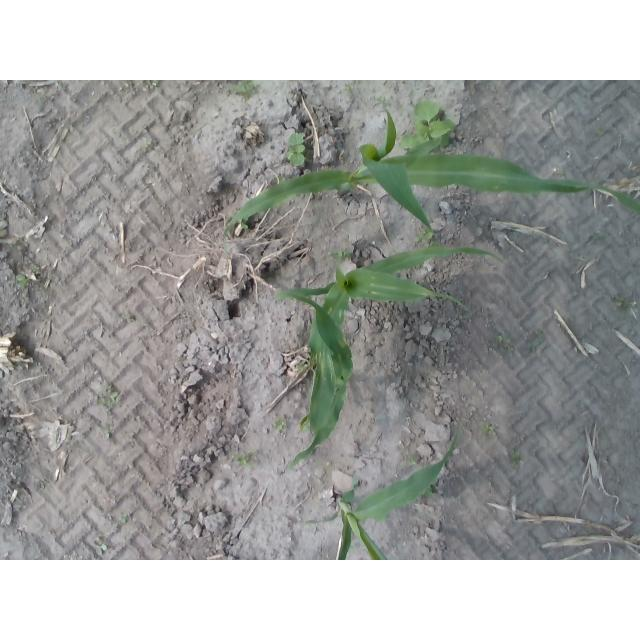Maize: (221, 107, 640, 252), (273, 244, 508, 429), (306, 424, 462, 560), (276, 291, 352, 470)
Weeds: (397, 101, 455, 156), (286, 132, 306, 166), (492, 331, 516, 354), (230, 80, 254, 100), (613, 295, 636, 314), (95, 387, 119, 405), (527, 330, 544, 354), (226, 211, 248, 229), (235, 451, 258, 468), (330, 248, 353, 263), (417, 226, 436, 243), (479, 423, 497, 438), (297, 415, 311, 433), (511, 449, 522, 470), (94, 538, 107, 555), (419, 486, 437, 498), (15, 274, 31, 287), (275, 418, 286, 431), (345, 84, 356, 97), (271, 175, 286, 183), (123, 314, 135, 323), (146, 80, 158, 89), (143, 139, 153, 149), (297, 362, 308, 371), (119, 513, 128, 523), (407, 455, 416, 465), (377, 96, 388, 104), (31, 263, 41, 270), (597, 130, 606, 136)
